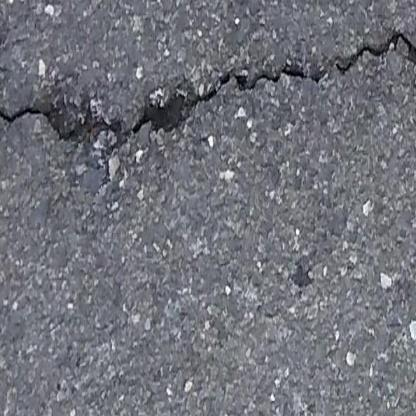Cracks: (0, 32, 416, 155)
